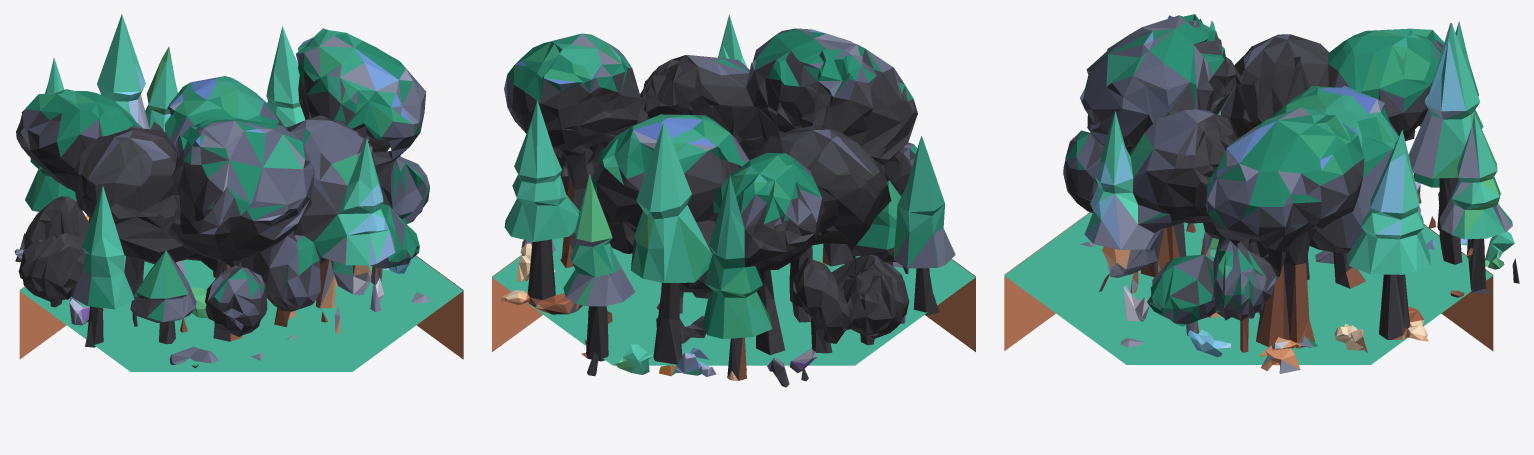
File: elven-forest-3.glb
The picture shows the model from 3 angles, left to right: view 1: azimuth 30°, elevation 25°; view 2: azimuth 150°, elevation 25°; view 3: azimuth 270°, elevation 25°; orthographic projection. The views are drawn at different scales.
Visible parts, largest first — view 1: world, hexBase; view 2: world, hexBase; view 3: world, hexBase.
Part boxes in pixels (x1=…): world: x1=14, y1=14, x2=429, y2=368; hexBase: x1=19, y1=255, x2=463, y2=371; world: x1=501, y1=14, x2=955, y2=387; hexBase: x1=492, y1=237, x2=975, y2=365; world: x1=1063, y1=14, x2=1519, y2=373; hexBase: x1=1004, y1=212, x2=1493, y2=364.
Size of the model in its own units: 1.13 by 0.8181 by 1.22.
3 materials, 3 textured.
